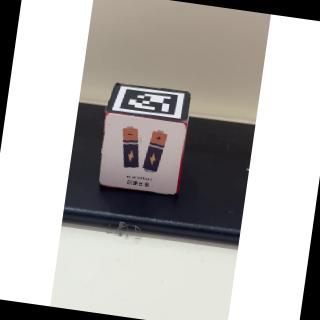Used_Battery: (99, 110, 188, 198)
